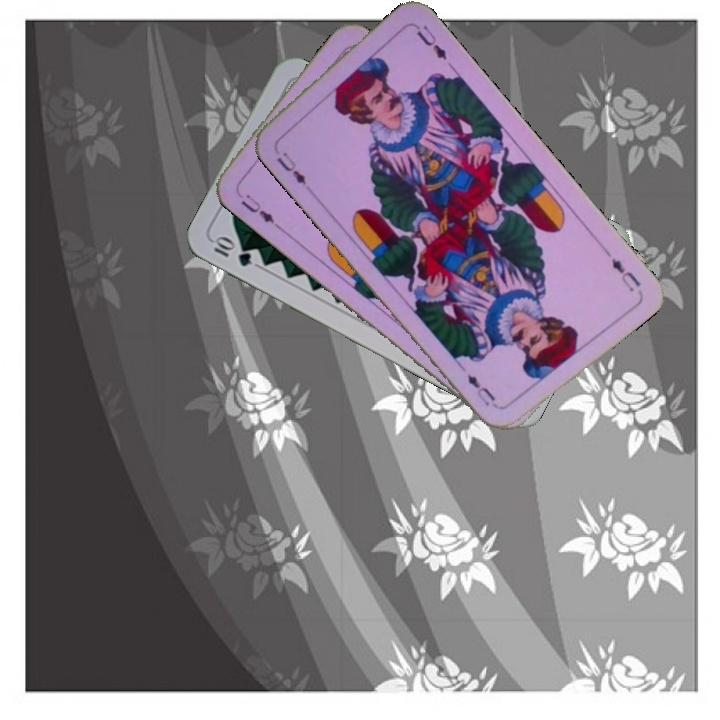EU: (232, 187, 282, 230), (272, 148, 310, 188), (607, 253, 644, 294)
G10: (209, 232, 255, 270)
